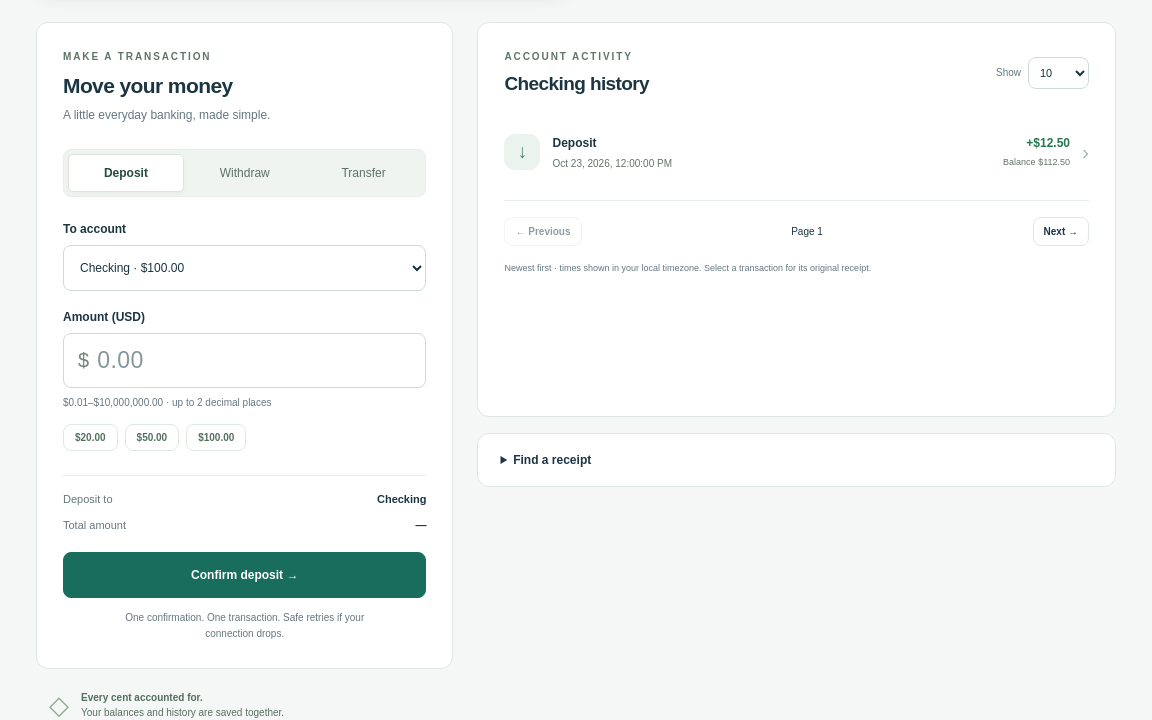
it: submits exact cents after storing recovery and shows a full receipt
(page scrolled)
Expected: the button "Confirm deposit →" is enabled, [63,552,426,598]
Step 1. Type "12.50" into the field labelled "Amount (USD)" → (261, 360), box [97,334,426,387]
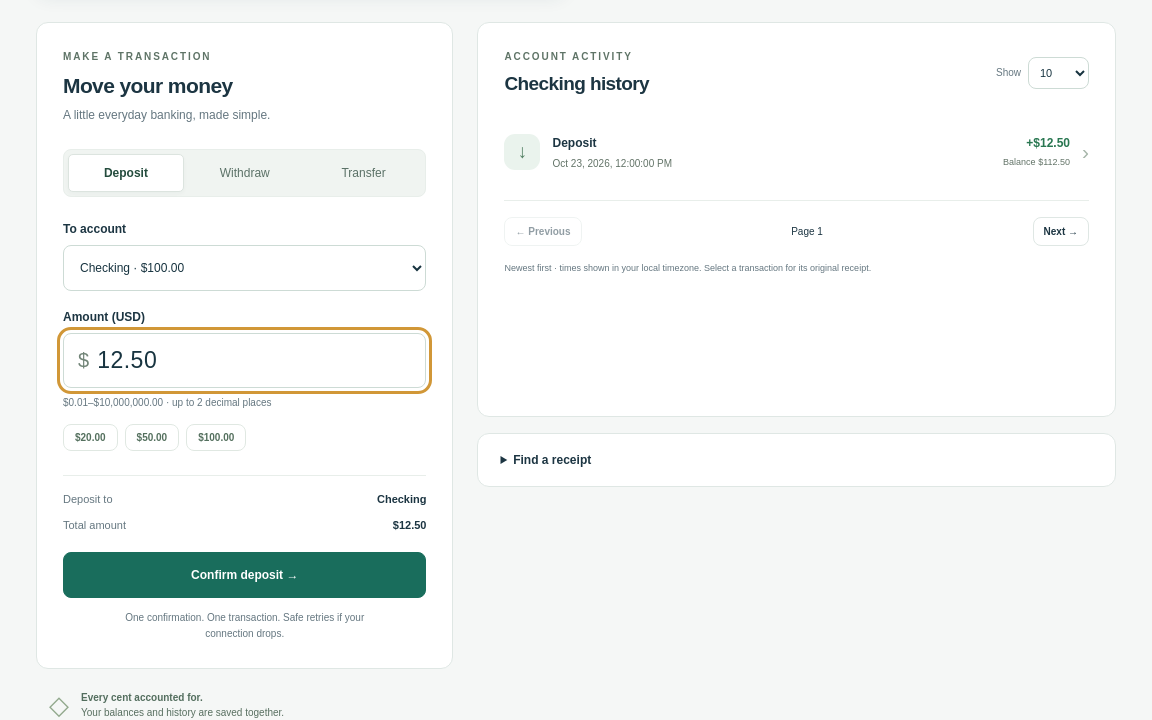
Step 2. Click the button "Confirm deposit →" → (245, 575), box [63,552,426,598]
(page scrolled)
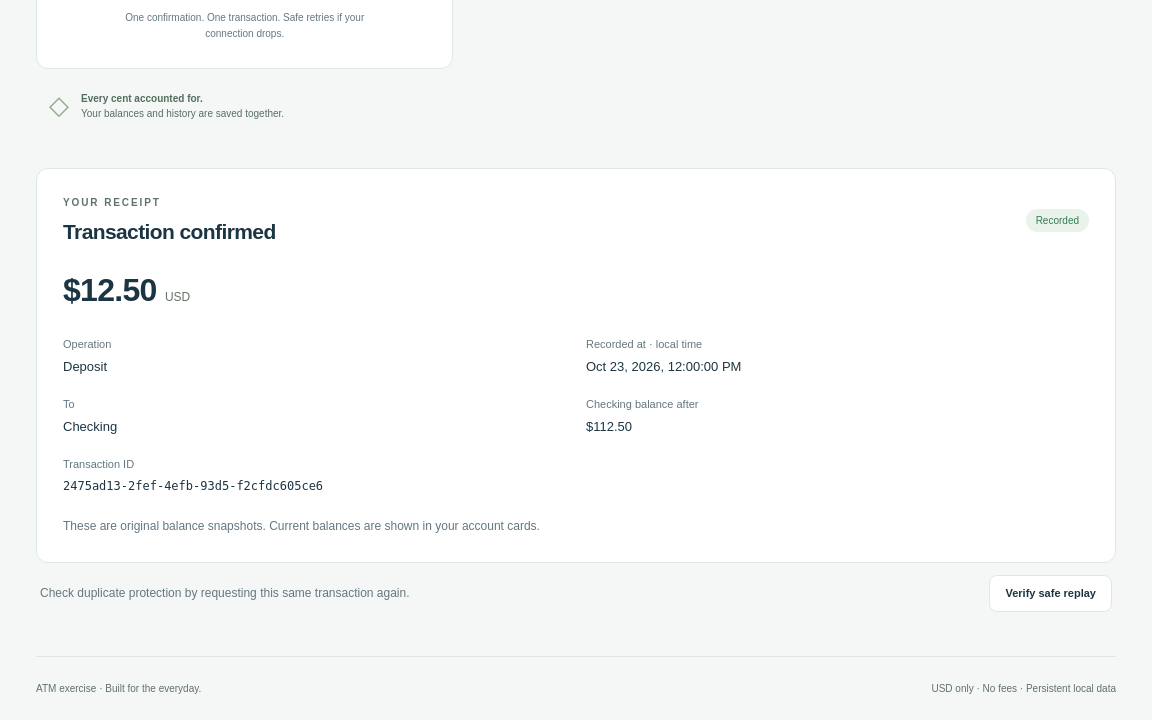
Expected: the heading "Transaction confirmed" is shown, [63,218,276,246]
Expected: the text "2475ad13-2fef-4efb-93d5-f2cfdc605ce6" is shown, [63,479,323,493]
